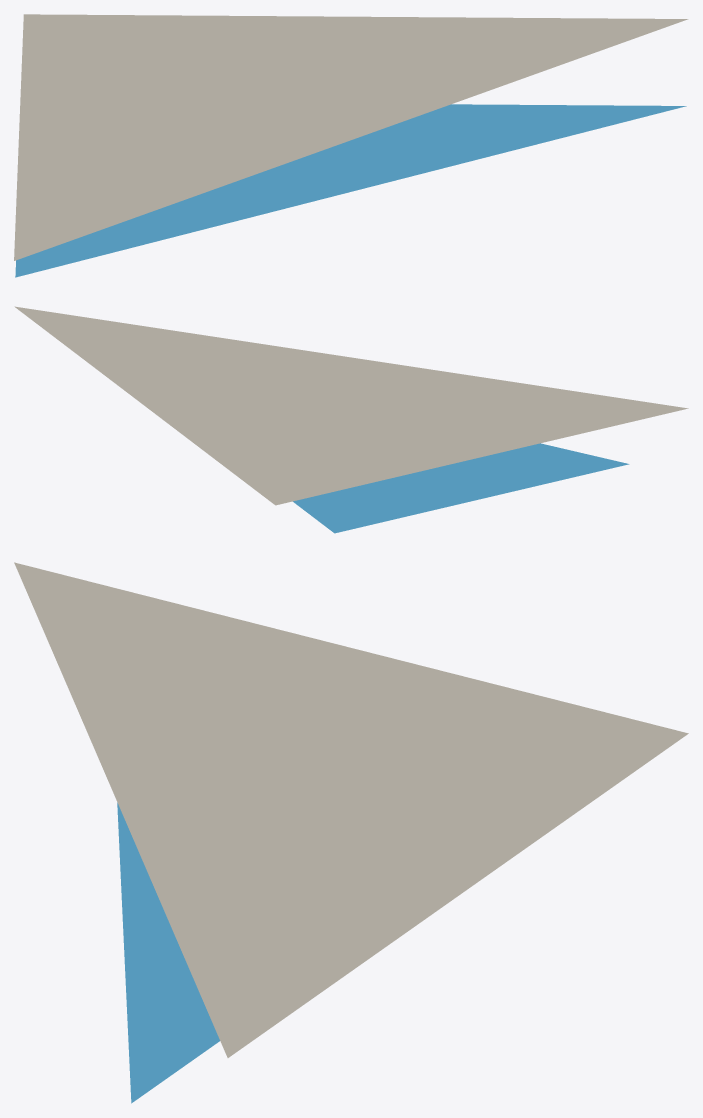
3 renders of one model, top to bottom at view 1: azimuth 30°, elevation 25°; view 2: azimuth 150°, elevation 25°; view 3: azimuth 270°, elevation 25°, orthographic. The views are drawn at different scales.
Visible parts, largest first — view 1: estructura_terreno, estructura_agua; view 2: estructura_terreno, estructura_agua; view 3: estructura_terreno, estructura_agua.
Part boxes in pixels (x1,y1,x2,y2): estructura_terreno: (14,14,688,260); estructura_agua: (15,104,686,277); estructura_terreno: (14,306,688,505); estructura_agua: (293,443,629,533); estructura_terreno: (14,562,688,1057); estructura_agua: (117,802,219,1103).
Size of the model in its own units: 6.26 by 0.41 by 3.6.
